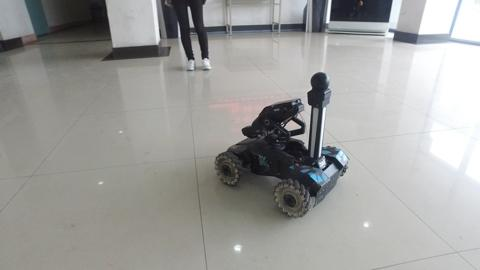chariot: (213, 69, 349, 219)
